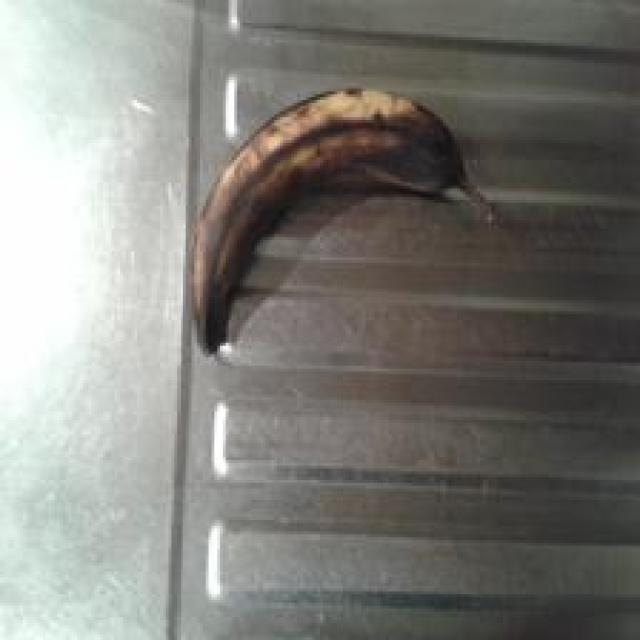Rotten_Banana: (155, 64, 489, 368)
